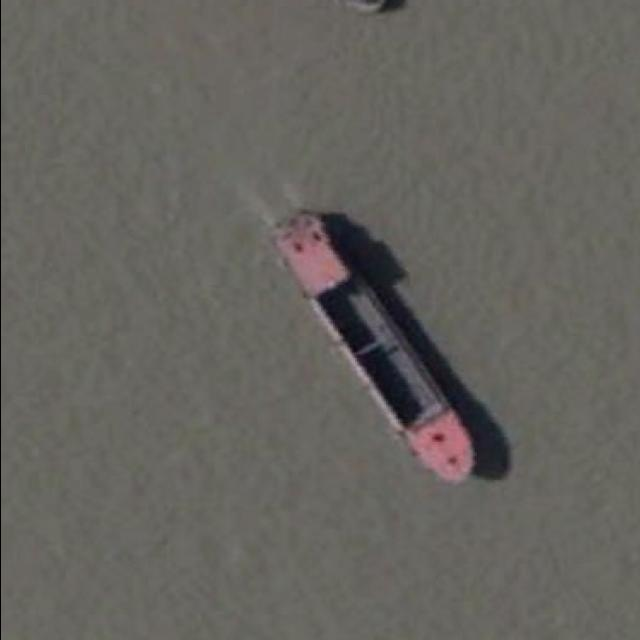ship: (270, 210, 478, 490)
